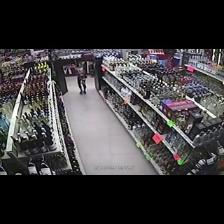person: (77, 66, 86, 94)
